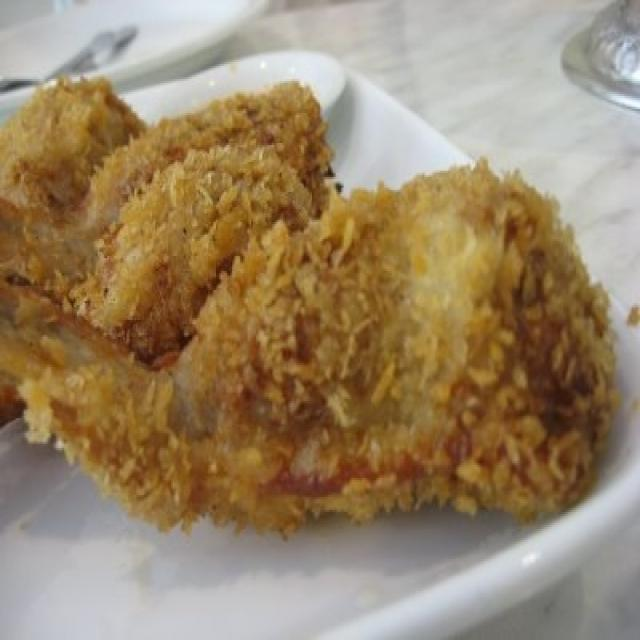Deep fried chicken wing: (16, 73, 621, 517)
